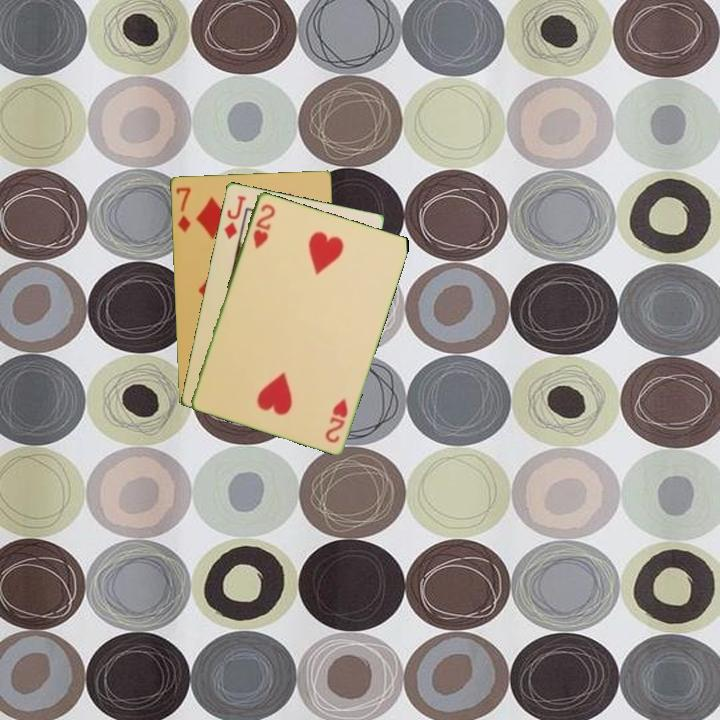2h: (321, 395, 351, 445), (249, 200, 278, 251)
7d: (172, 183, 193, 235)
Jd: (220, 192, 249, 242)
